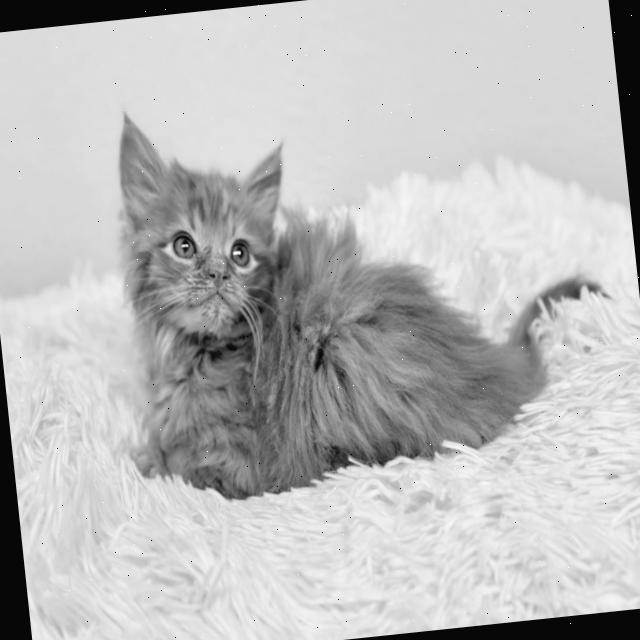maine_coon_cat: (82, 88, 315, 378)
